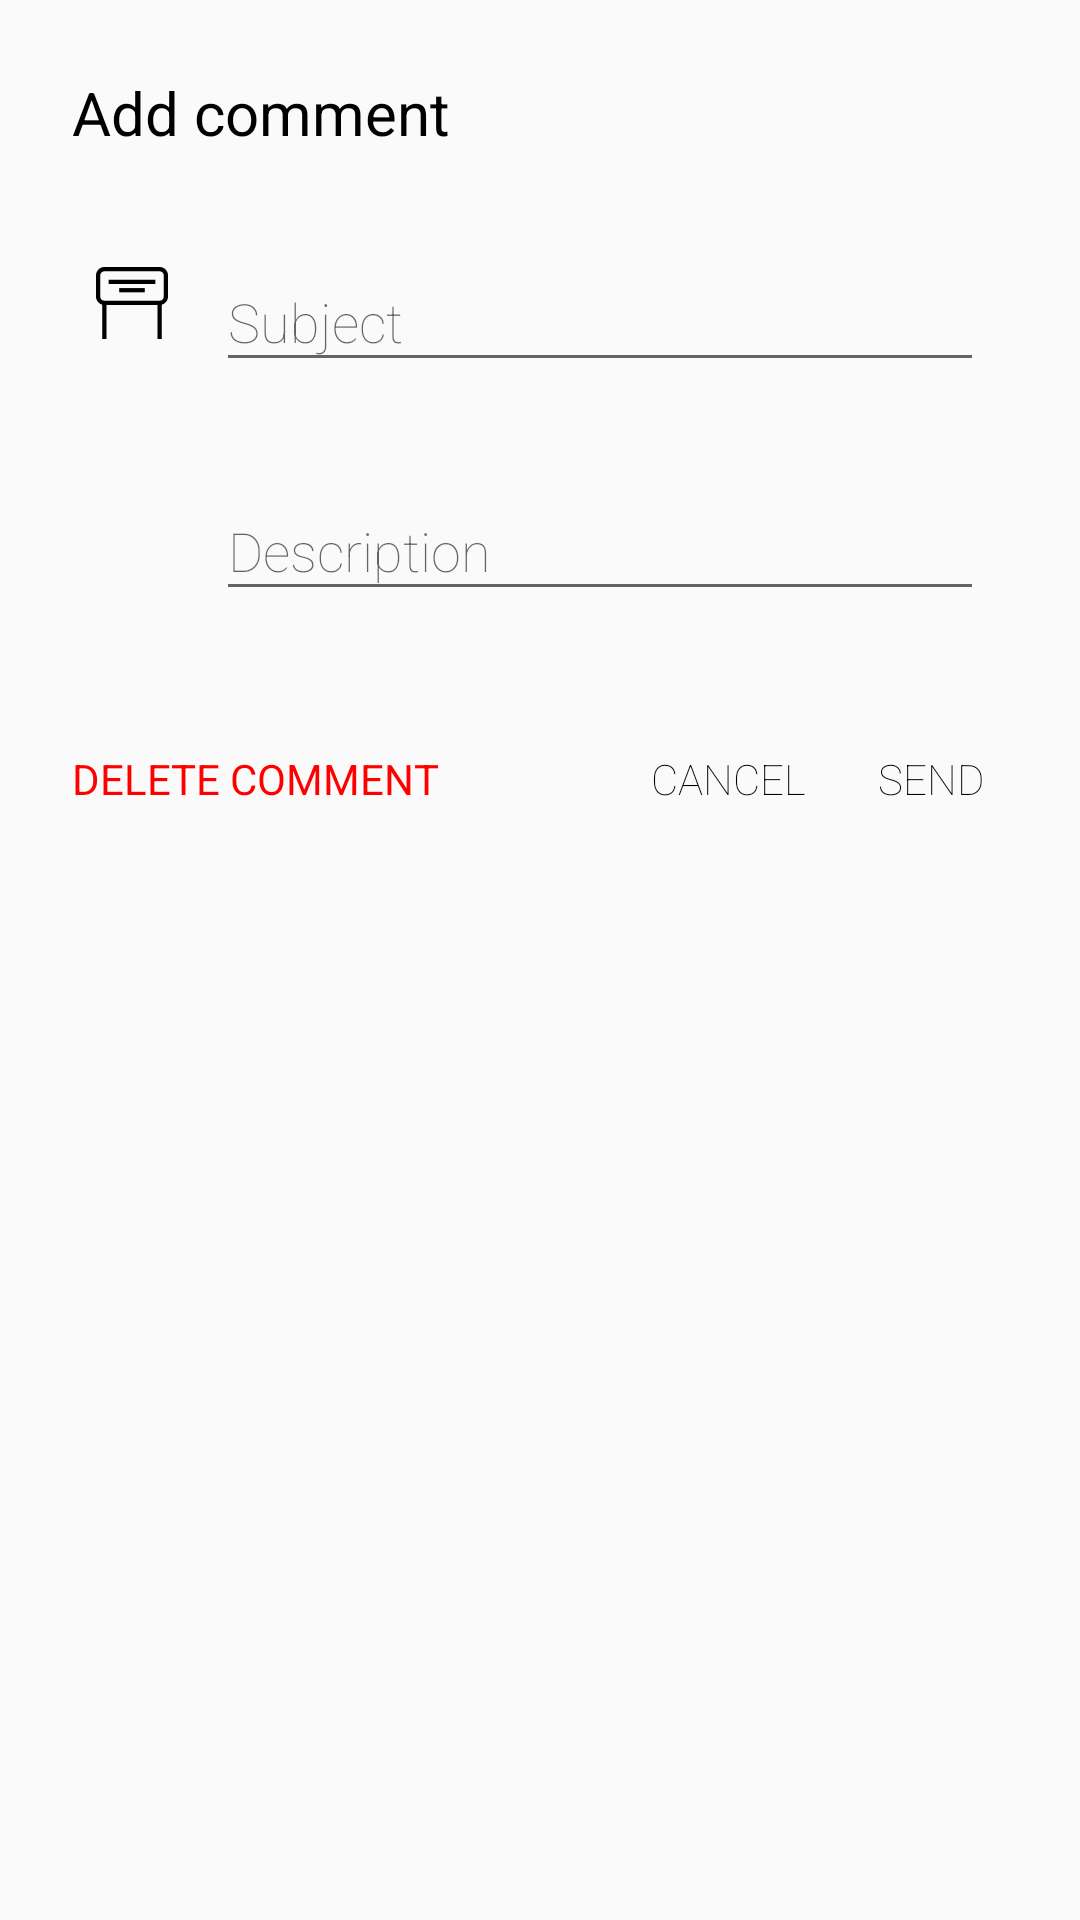

Screen size 1080px×1920px. Icon name, then its center in pixels as (x,y):
title: (132,303)
